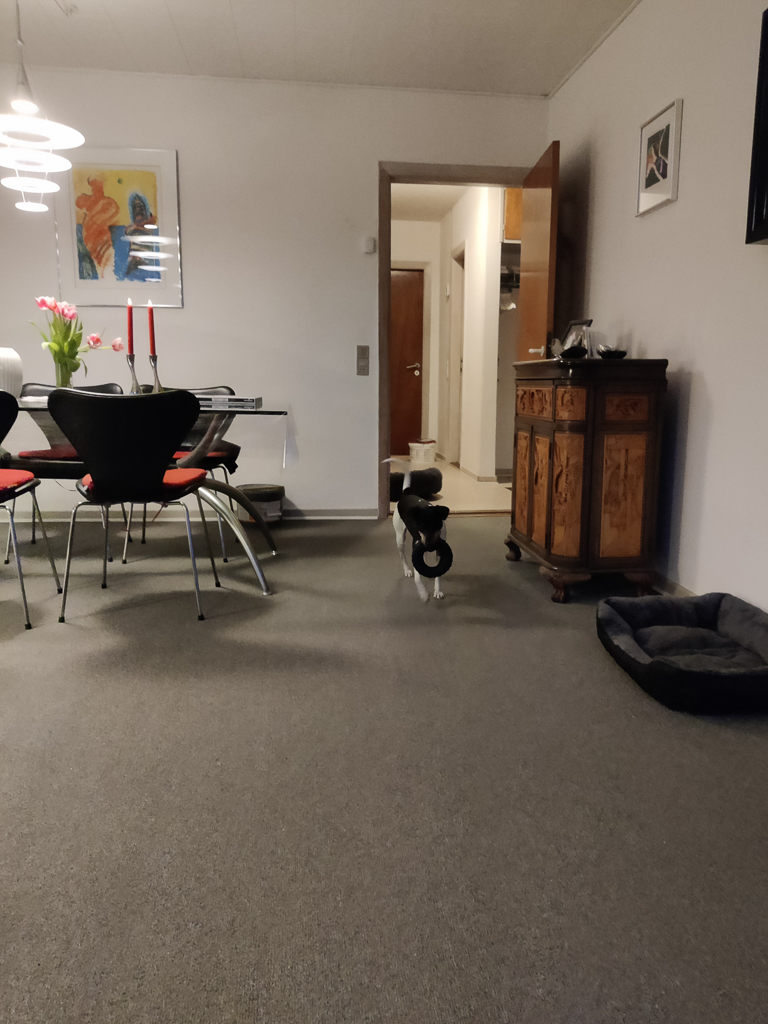Dog: (366, 450, 460, 609)
